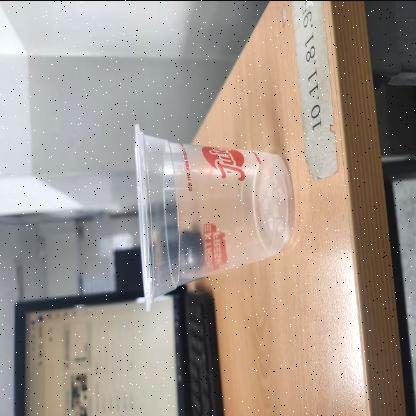Others: (134, 122, 294, 309)
